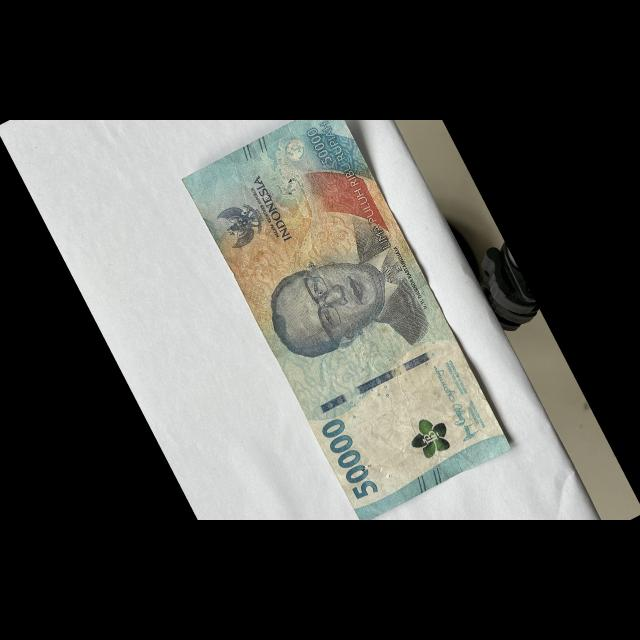Palsu-50k: (176, 95, 517, 533)
Tinta-Palsu-50k: (402, 410, 457, 464)
